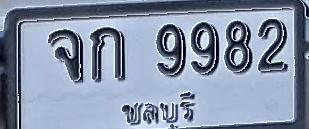2: (258, 18, 288, 72)
8: (224, 20, 252, 73)
9: (156, 24, 186, 76), (191, 21, 219, 75)
A01: (90, 27, 126, 82)
A08: (48, 30, 84, 82)
CBI: (119, 90, 197, 129)
